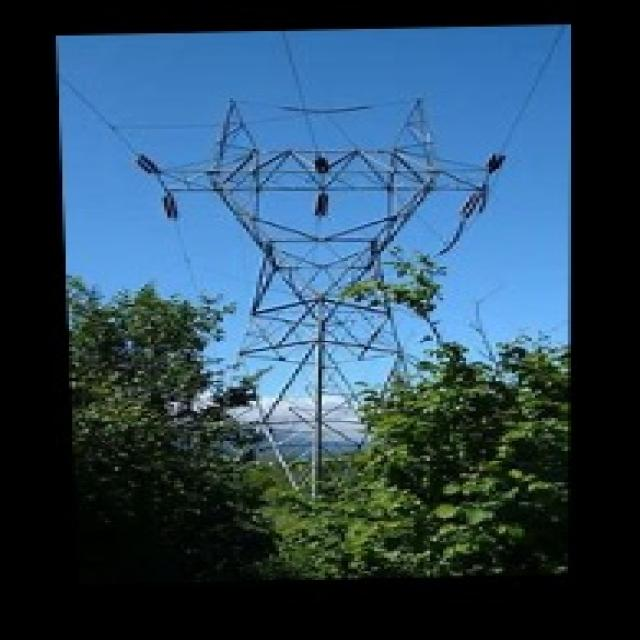utility poles: (89, 242, 311, 526), (334, 218, 514, 522)
